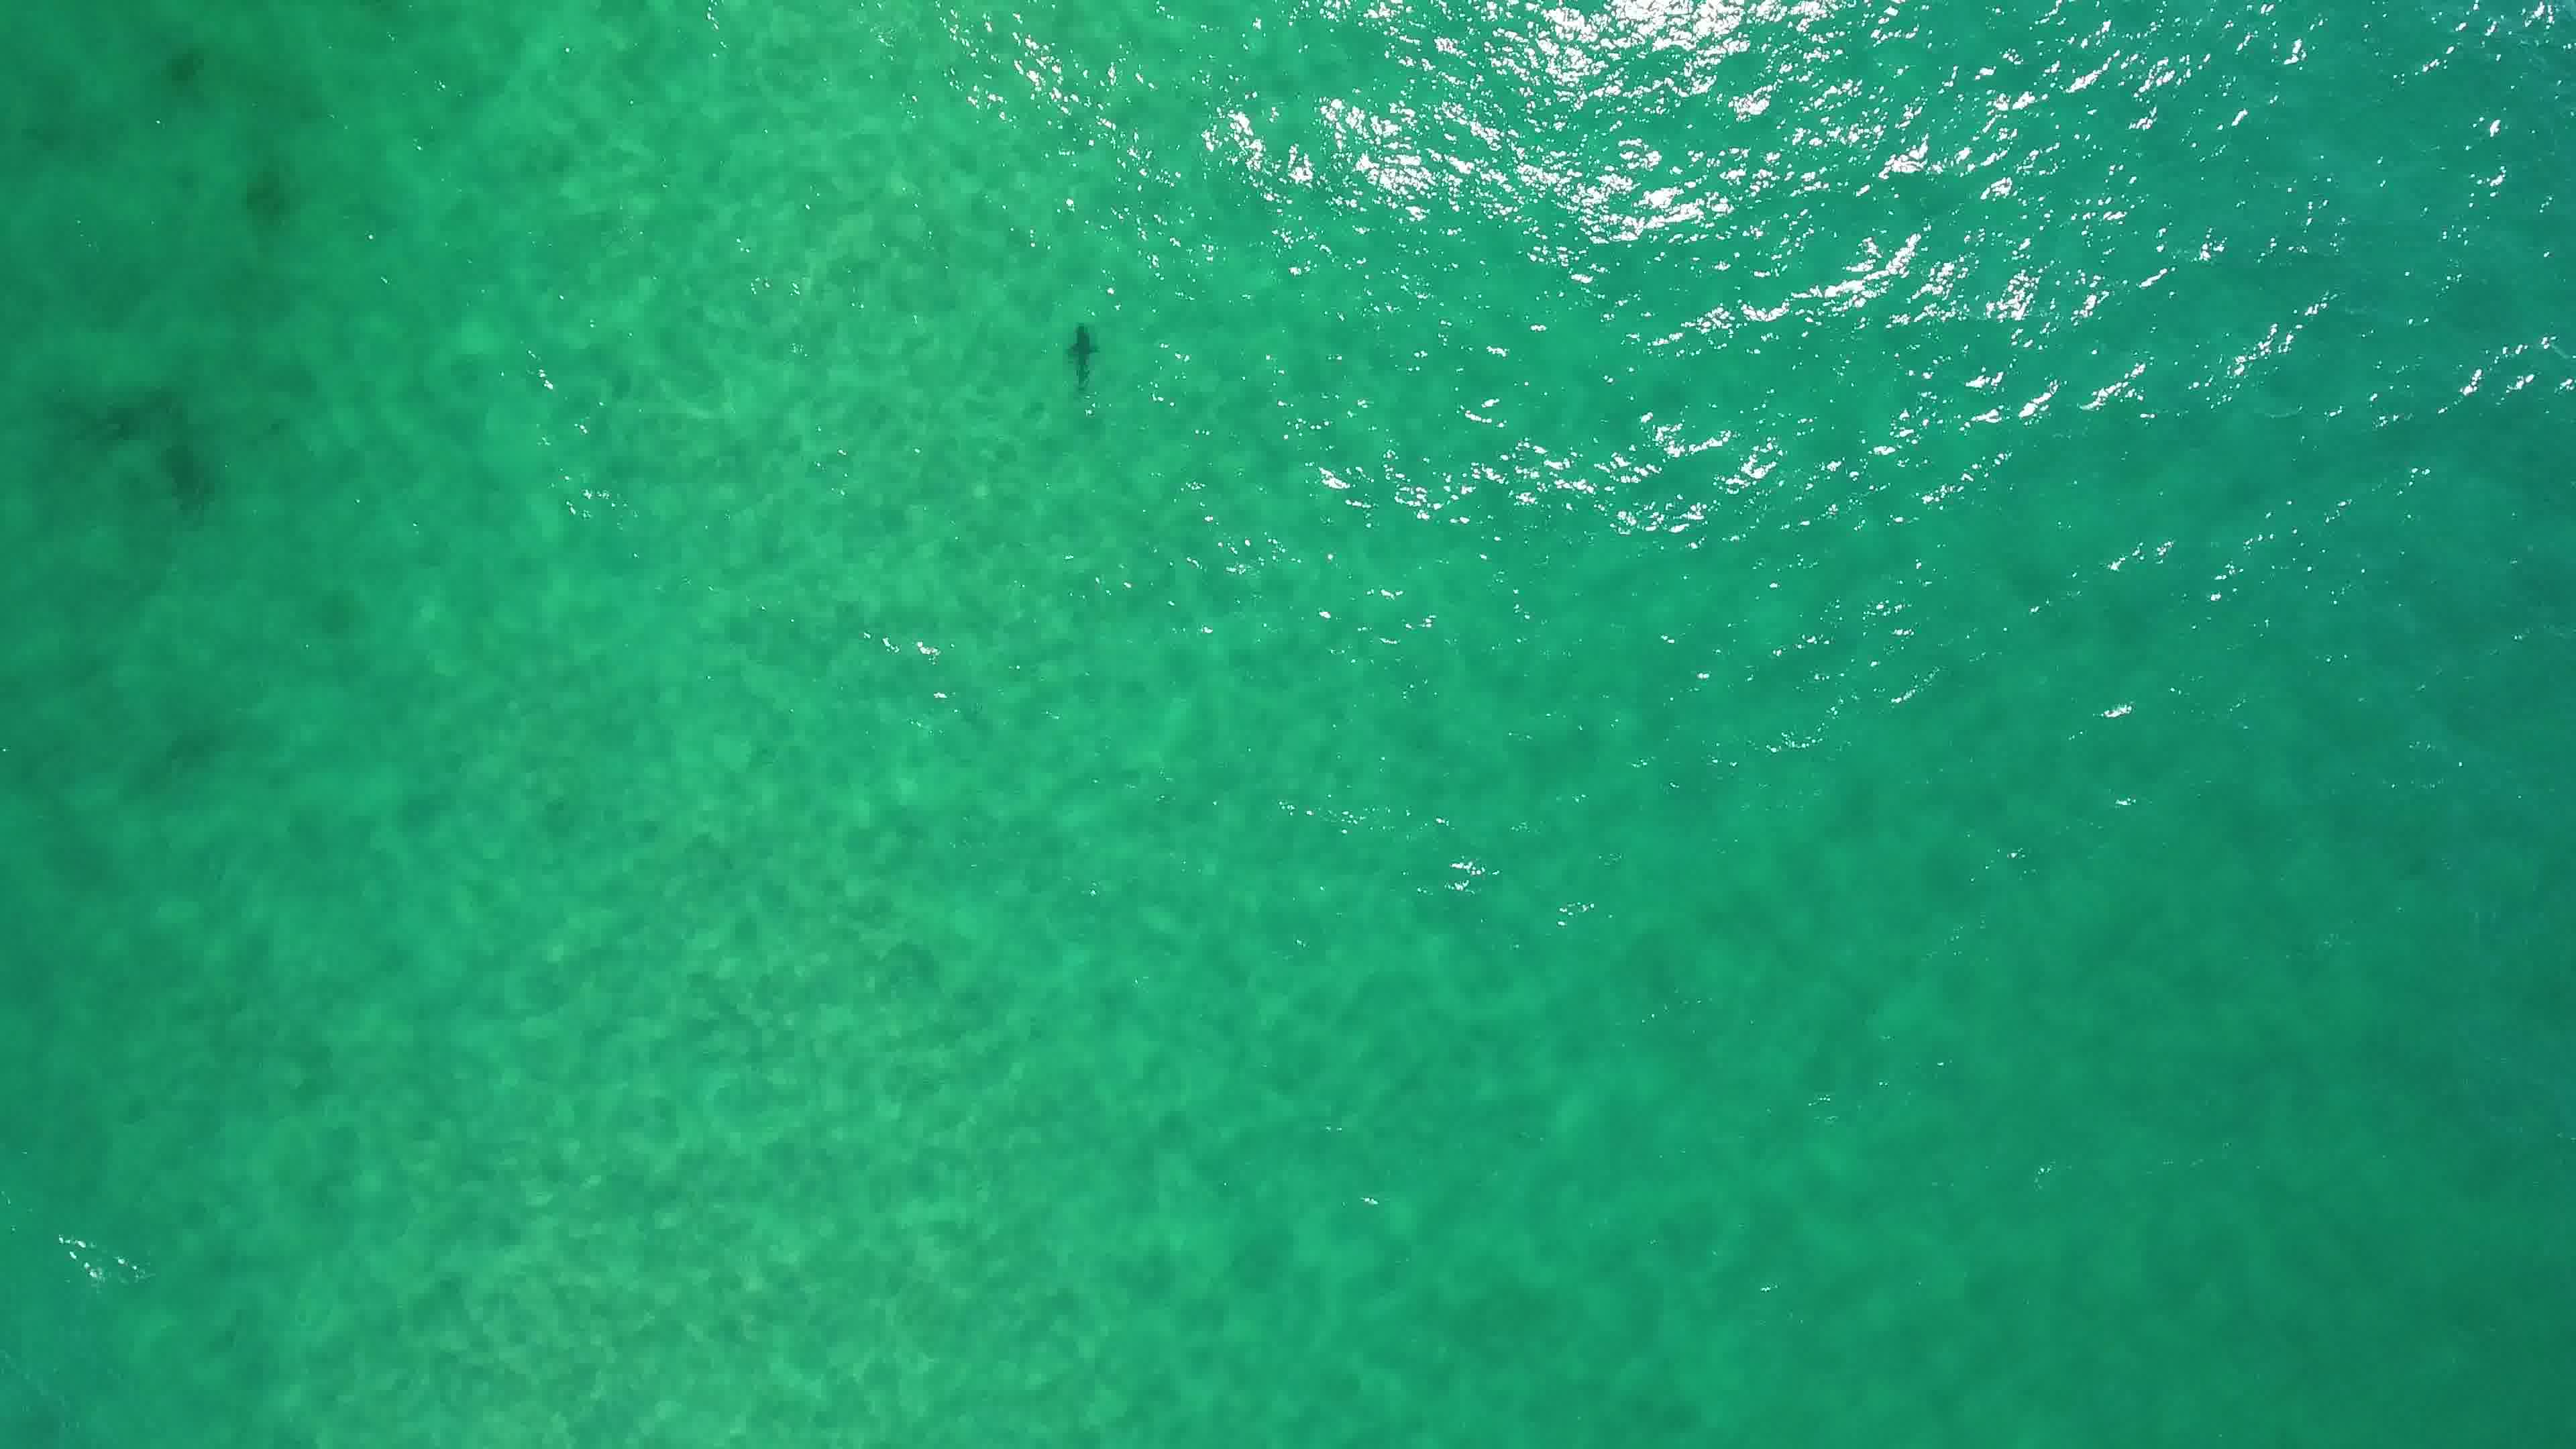shark: (1058, 317, 1104, 391)
